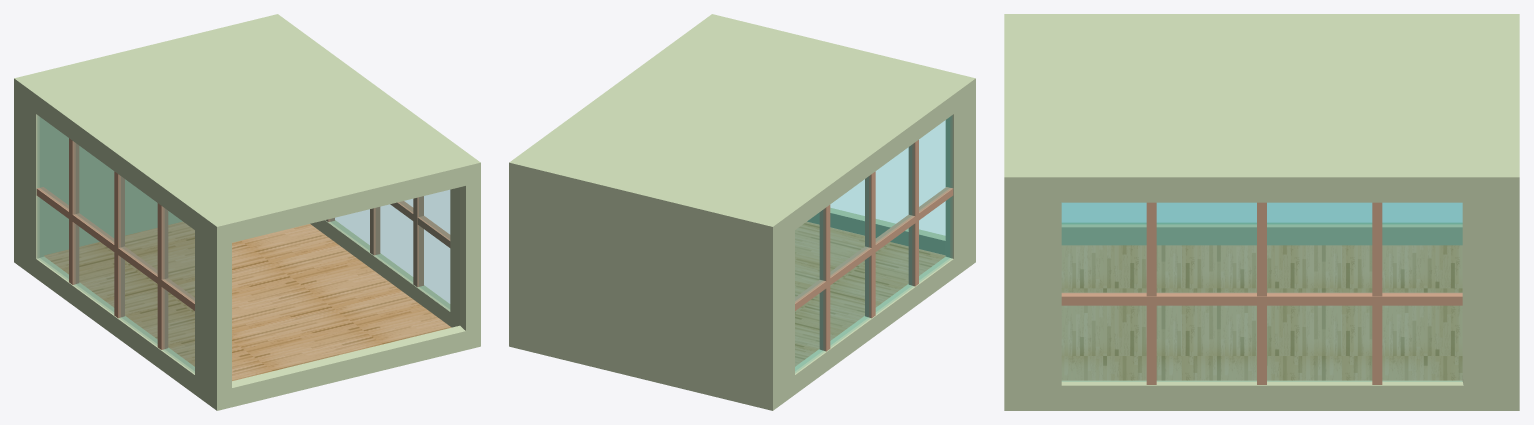
The model's file is Platform.fbx.
3 views of the same model, side by side, from view 1: azimuth 30°, elevation 25°; view 2: azimuth 150°, elevation 25°; view 3: azimuth 270°, elevation 25° (orthographic). The views are drawn at different scales.
Parts seen in each view (by area): view 1: pCube17; view 2: pCube17; view 3: pCube17.
Boxes of the visible parts, x1,y1,x2,y2 form: pCube17: (14, 14, 480, 410); pCube17: (509, 14, 975, 410); pCube17: (1004, 14, 1519, 410).
Bounding box in the file's own units: 1598 × 1065 × 2130.
3 materials, 2 textured.
